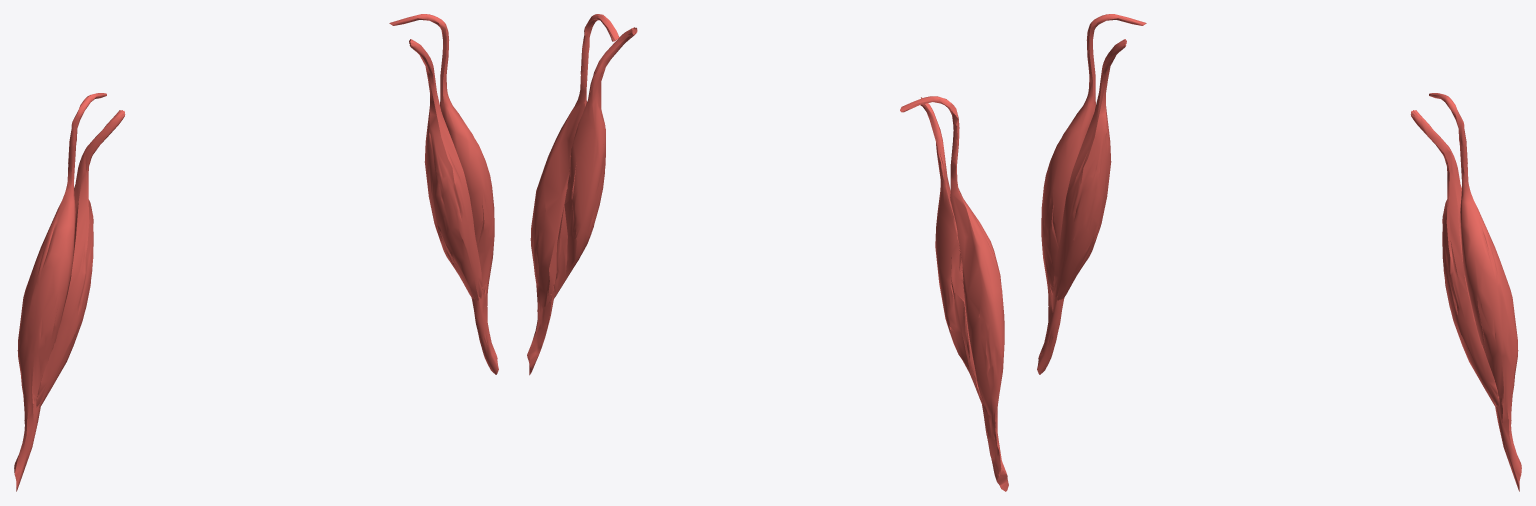
Rendered from supplement-elbow-forearm-biceps-brachii.glb.
3 renders of one model, left to right at view 1: azimuth 30°, elevation 25°; view 2: azimuth 150°, elevation 25°; view 3: azimuth 330°, elevation 25°, orthographic.
Parts seen in each view (by area): view 1: elbow-forearm:biceps-brachii:isa:FJ1478, elbow-forearm:biceps-brachii:isa:FJ1512M, elbow-forearm:biceps-brachii:isa:FJ1478M, elbow-forearm:biceps-brachii:isa:FJ1512; view 2: elbow-forearm:biceps-brachii:isa:FJ1478, elbow-forearm:biceps-brachii:isa:FJ1478M, elbow-forearm:biceps-brachii:isa:FJ1512M, elbow-forearm:biceps-brachii:isa:FJ1512; view 3: elbow-forearm:biceps-brachii:isa:FJ1478M, elbow-forearm:biceps-brachii:isa:FJ1512, elbow-forearm:biceps-brachii:isa:FJ1478, elbow-forearm:biceps-brachii:isa:FJ1512M.
Part boxes in pixels (x1=…): elbow-forearm:biceps-brachii:isa:FJ1478: x1=14, y1=93, x2=106, y2=491; elbow-forearm:biceps-brachii:isa:FJ1512M: x1=409, y1=39, x2=482, y2=300; elbow-forearm:biceps-brachii:isa:FJ1478M: x1=389, y1=14, x2=498, y2=374; elbow-forearm:biceps-brachii:isa:FJ1512: x1=36, y1=110, x2=125, y2=407; elbow-forearm:biceps-brachii:isa:FJ1478: x1=900, y1=96, x2=1008, y2=491; elbow-forearm:biceps-brachii:isa:FJ1478M: x1=527, y1=14, x2=619, y2=375; elbow-forearm:biceps-brachii:isa:FJ1512M: x1=549, y1=27, x2=637, y2=302; elbow-forearm:biceps-brachii:isa:FJ1512: x1=920, y1=97, x2=984, y2=409; elbow-forearm:biceps-brachii:isa:FJ1478M: x1=1429, y1=93, x2=1521, y2=491; elbow-forearm:biceps-brachii:isa:FJ1512: x1=1053, y1=39, x2=1126, y2=300; elbow-forearm:biceps-brachii:isa:FJ1478: x1=1037, y1=14, x2=1146, y2=374; elbow-forearm:biceps-brachii:isa:FJ1512M: x1=1410, y1=110, x2=1499, y2=407.
Bounding box in the file's own units: 0.4597 × 0.3453 × 0.0415.
